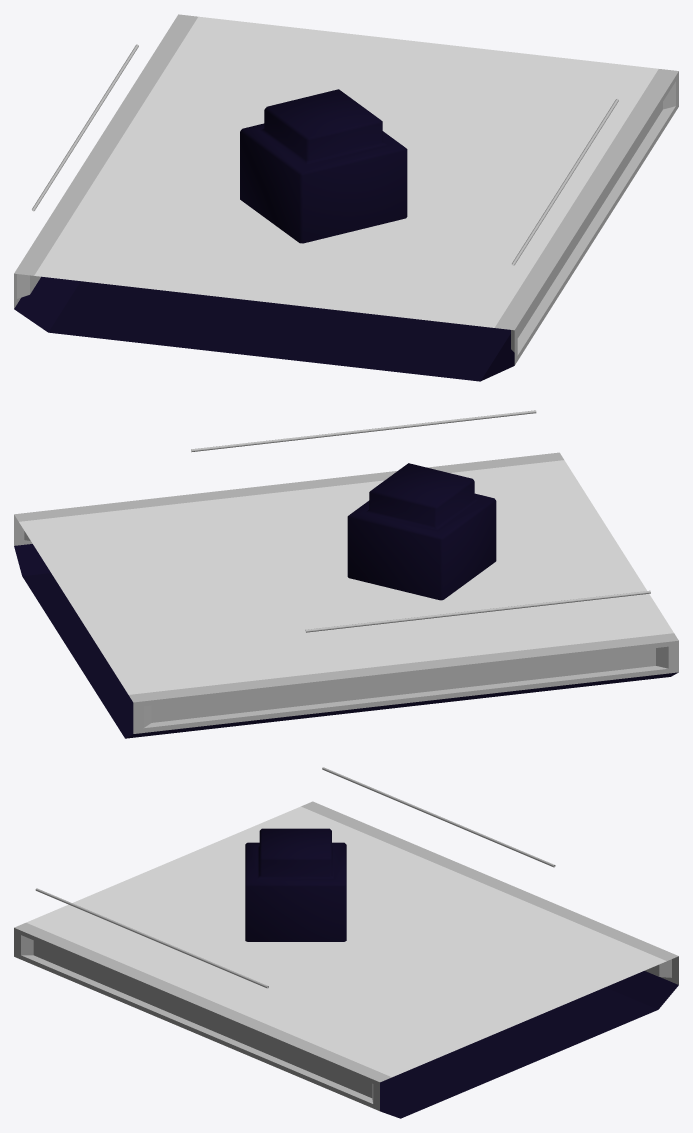
The model's file is BASE_CORNER_BRIDGE.glb.
3 views of the same model, one above another, from view 1: azimuth 30°, elevation 25°; view 2: azimuth 150°, elevation 25°; view 3: azimuth 270°, elevation 25° (orthographic). The views are drawn at different scales.
Visible parts, largest first — view 1: BRIDGE; view 2: BRIDGE; view 3: BRIDGE.
Boxes of the visible parts, bbox=[...] form: BRIDGE: bbox=[14, 14, 678, 381]; BRIDGE: bbox=[14, 410, 678, 738]; BRIDGE: bbox=[14, 767, 678, 1118].
Size of the model in its own units: 14.13 by 2.87 by 14.13.
